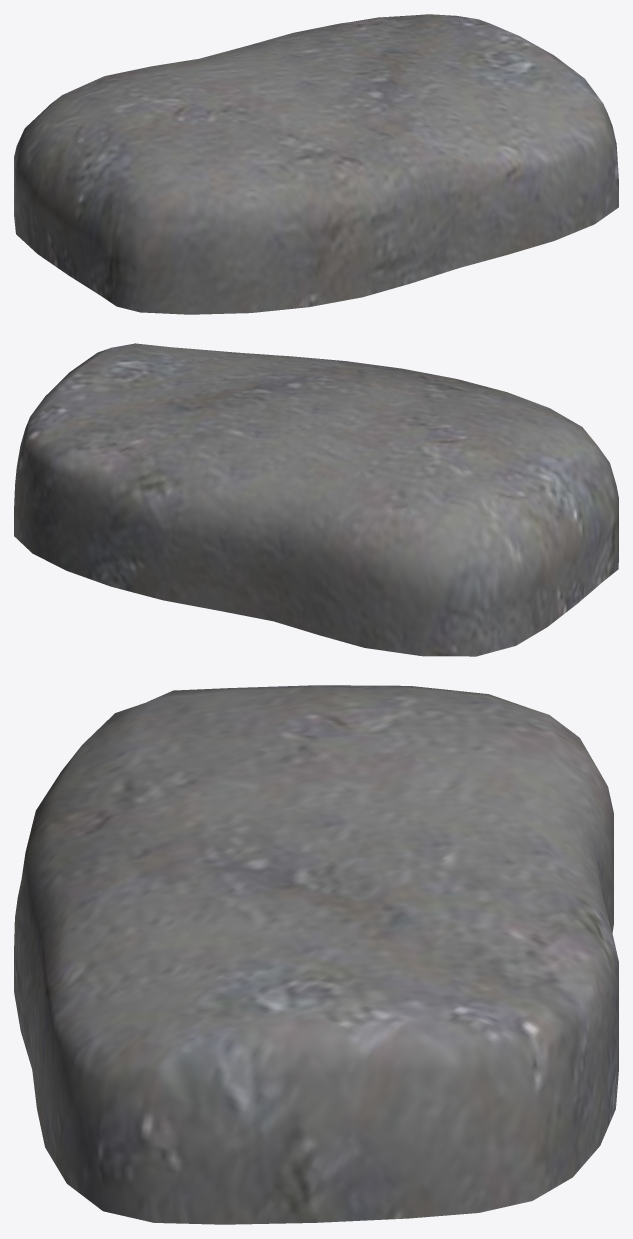
The model's file is SM_Sun_Pal_Stone_D.fbx.
3 renders of one model, top to bottom at view 1: azimuth 30°, elevation 25°; view 2: azimuth 150°, elevation 25°; view 3: azimuth 270°, elevation 25°, orthographic. The views are drawn at different scales.
Visible parts, largest first — view 1: SM_Sun_Pal_Stone_D; view 2: SM_Sun_Pal_Stone_D; view 3: SM_Sun_Pal_Stone_D.
Boxes of the visible parts, <box> form: SM_Sun_Pal_Stone_D: <box>14,14,618,314</box>; SM_Sun_Pal_Stone_D: <box>14,343,618,656</box>; SM_Sun_Pal_Stone_D: <box>14,685,618,1224</box>.
Size of the model in its own units: 80.26 by 20.12 by 52.96.
